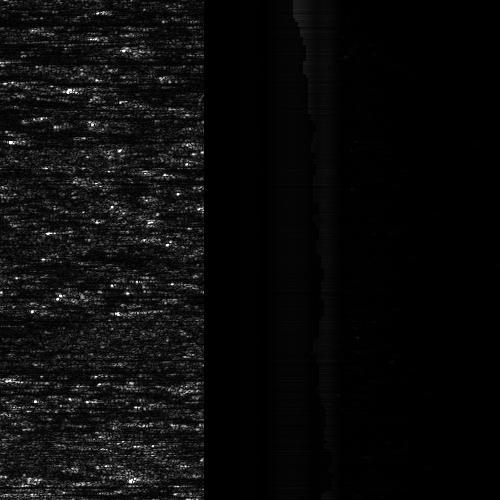object: (0, 52, 28, 65)
shadow: (0, 361, 131, 378), (0, 52, 166, 65)
